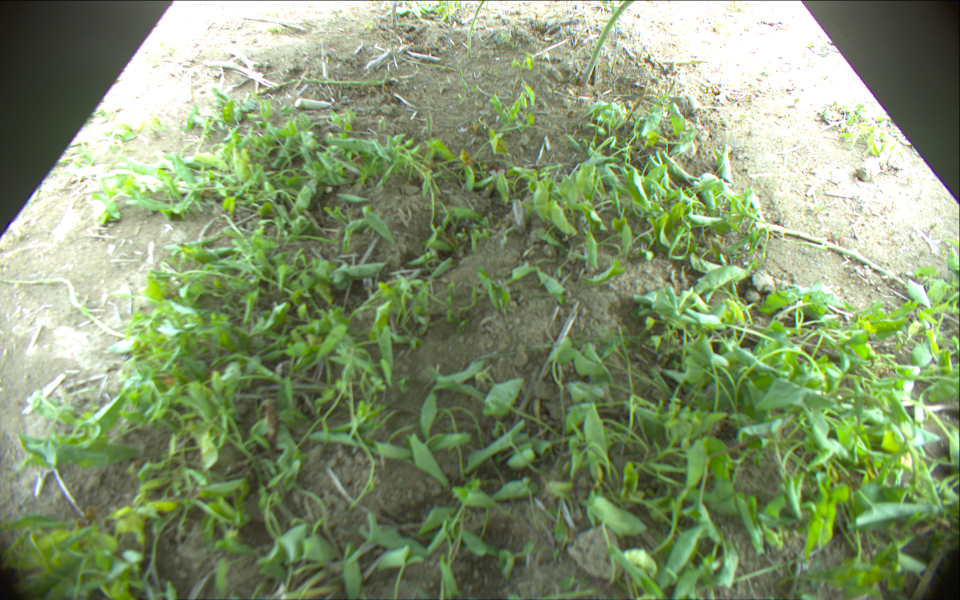aspa: (753, 222, 908, 291), (580, 1, 637, 86), (257, 78, 397, 95), (466, 1, 485, 48), (390, 1, 399, 29)
